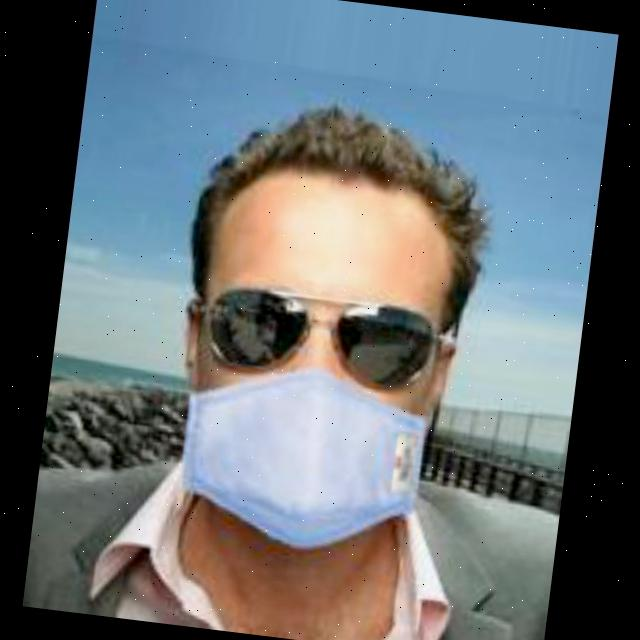suspicion: (164, 132, 474, 556)
